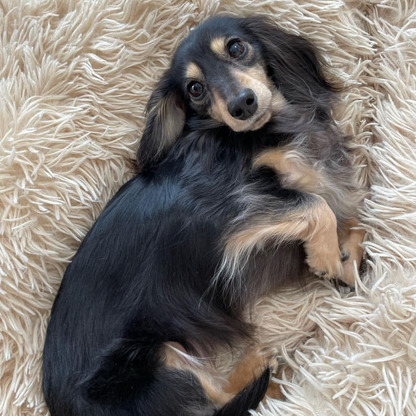dachshund: (110, 13, 367, 365)
